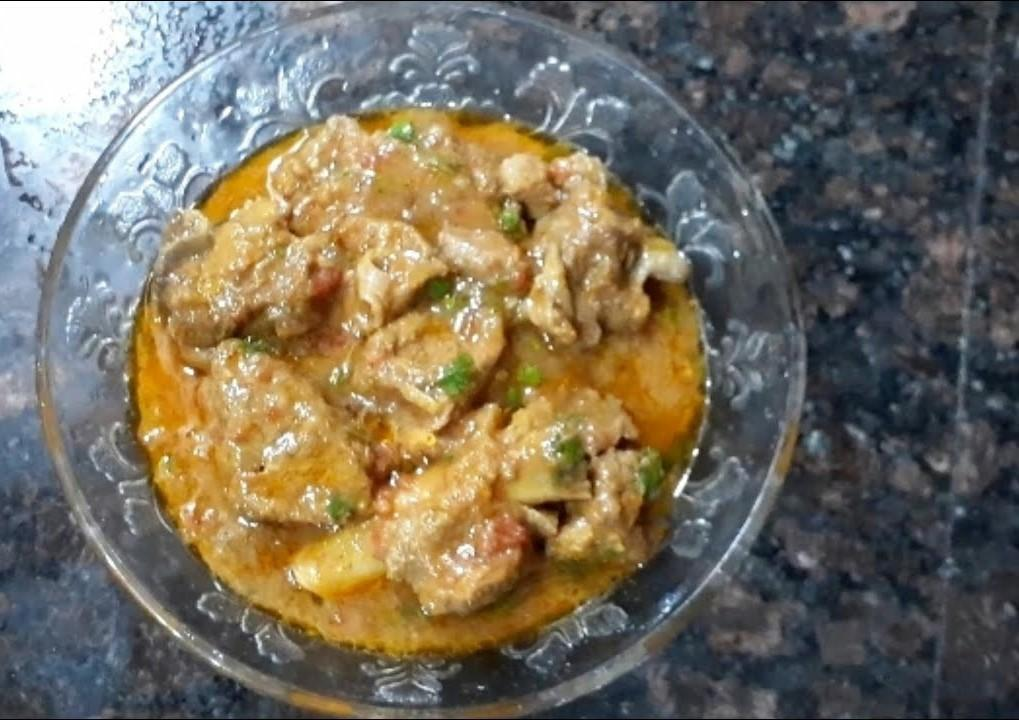MuttonCurry: (139, 107, 708, 653)
